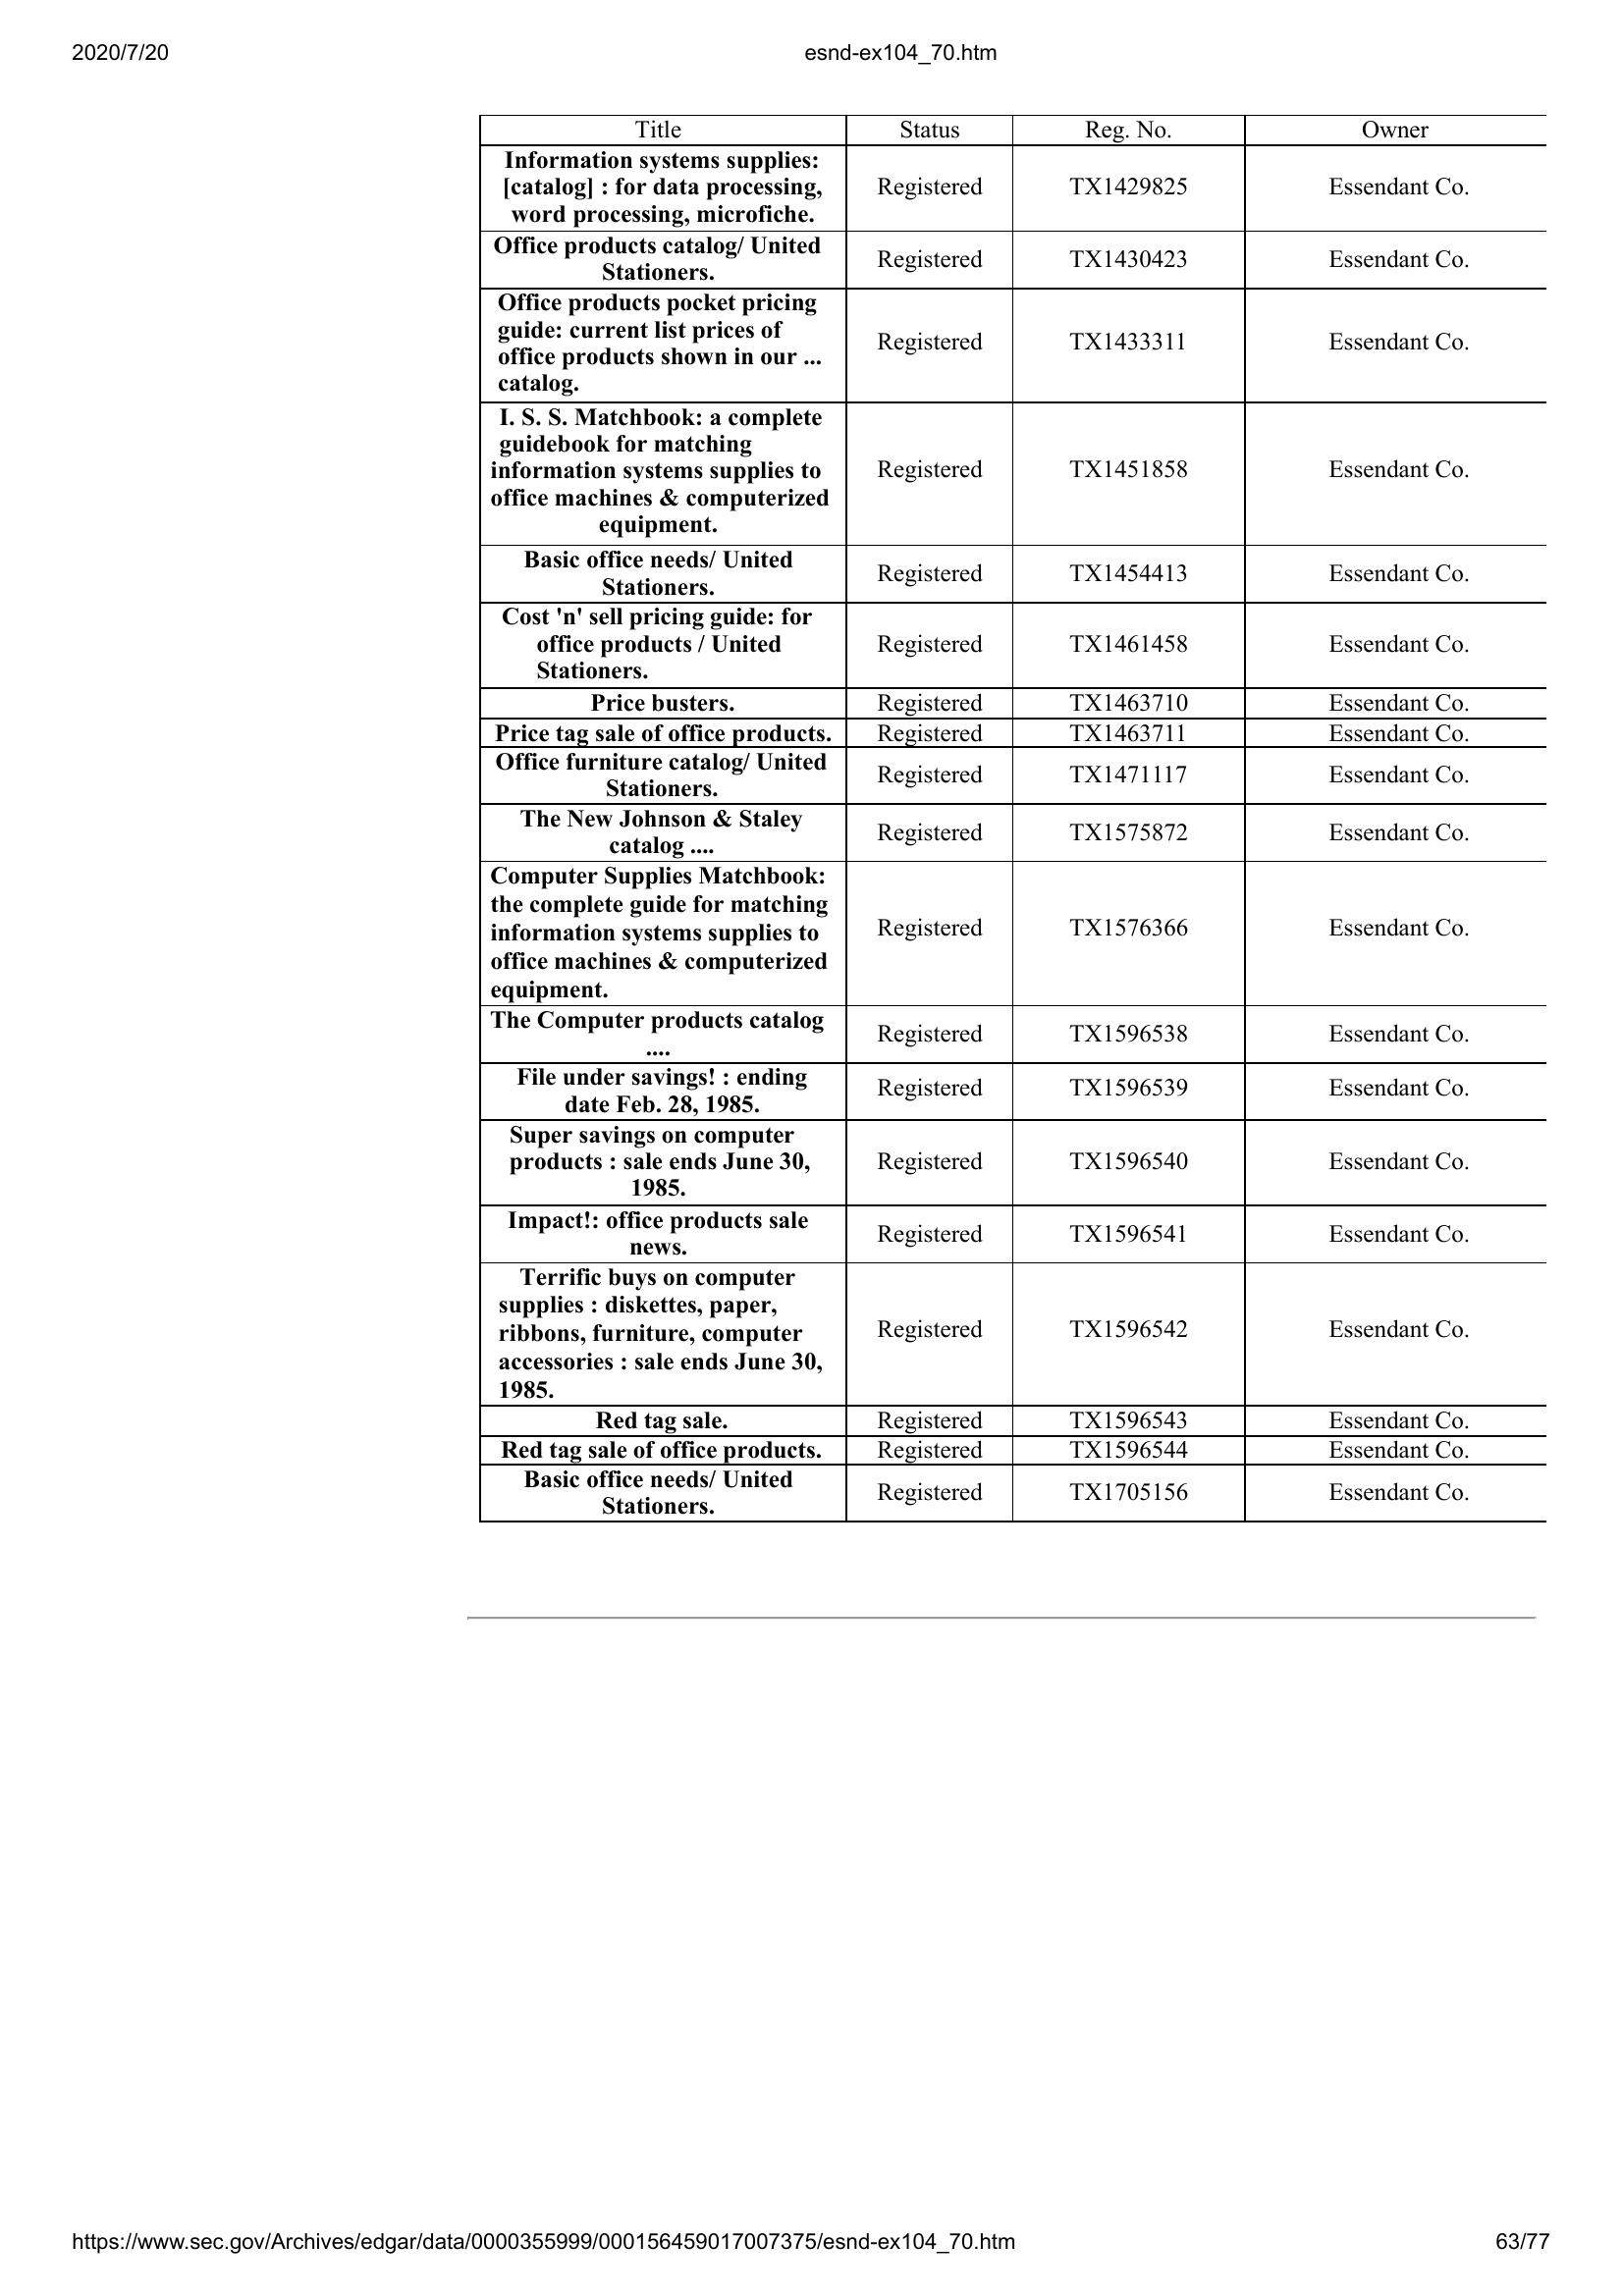table: (472, 105, 1553, 1532)
